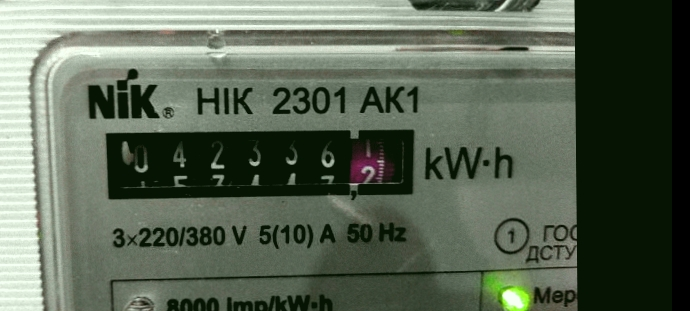0: (130, 141, 149, 174)
1: (360, 133, 372, 159)
2: (206, 136, 227, 170), (357, 164, 374, 185)
3: (243, 135, 261, 167), (282, 134, 299, 167)
4: (170, 136, 187, 169)
6: (317, 136, 337, 170)
screen: (91, 115, 427, 209)
